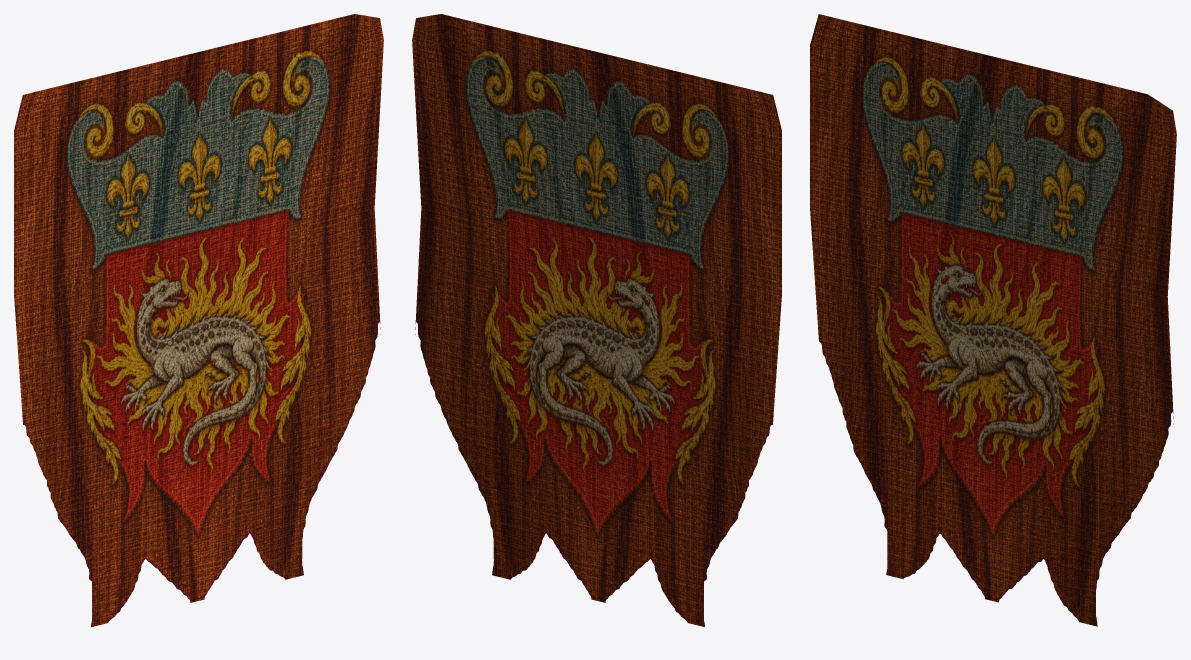
The model's file is mm9_deco_tapestry_banner7.glb.
3 renders of one model, left to right at view 1: azimuth 30°, elevation 25°; view 2: azimuth 150°, elevation 25°; view 3: azimuth 330°, elevation 25°, orthographic.
Parts seen in each view (by area): view 1: Tapestry_banner7; view 2: Tapestry_banner7; view 3: Tapestry_banner7.
Boxes of the visible parts, bbox=[...] form: Tapestry_banner7: bbox=[14, 14, 383, 626]; Tapestry_banner7: bbox=[412, 14, 781, 626]; Tapestry_banner7: bbox=[810, 14, 1176, 626].
Size of the model in its own units: 1.63 by 2.31 by 2.59e-07.
Materials: 1 (1 with a texture image).
